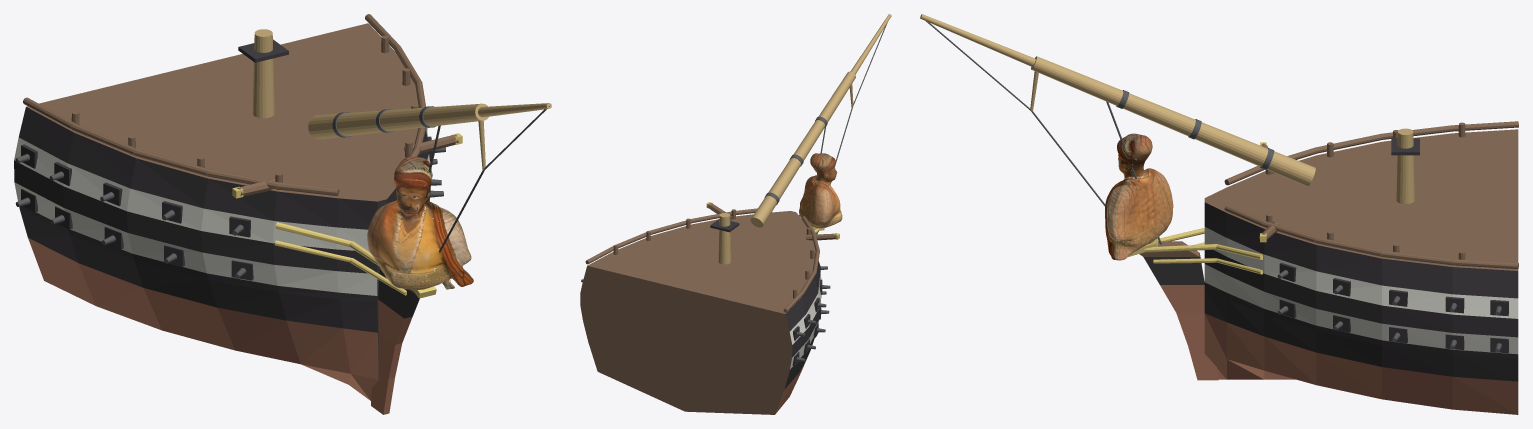
The model's file is calcutta.glb.
3 renders of one model, left to right at view 1: azimuth 30°, elevation 25°; view 2: azimuth 150°, elevation 25°; view 3: azimuth 270°, elevation 25°, orthographic. The views are drawn at different scales.
Parts seen in each view (by area): view 1: calcutta_ParentBow, calcutta_Figurehead; view 2: calcutta_ParentBow, calcutta_Figurehead; view 3: calcutta_ParentBow, calcutta_Figurehead.
Boxes of the visible parts, box(x1,y1,x2,y2) form: calcutta_ParentBow: box(14, 14, 551, 414); calcutta_Figurehead: box(367, 156, 473, 289); calcutta_ParentBow: box(580, 14, 891, 414); calcutta_Figurehead: box(799, 153, 842, 228); calcutta_ParentBow: box(920, 14, 1518, 414); calcutta_Figurehead: box(1105, 133, 1173, 260).
Size of the model in its own units: 15.41 by 16.43 by 24.44.
2 materials, 2 textured.
